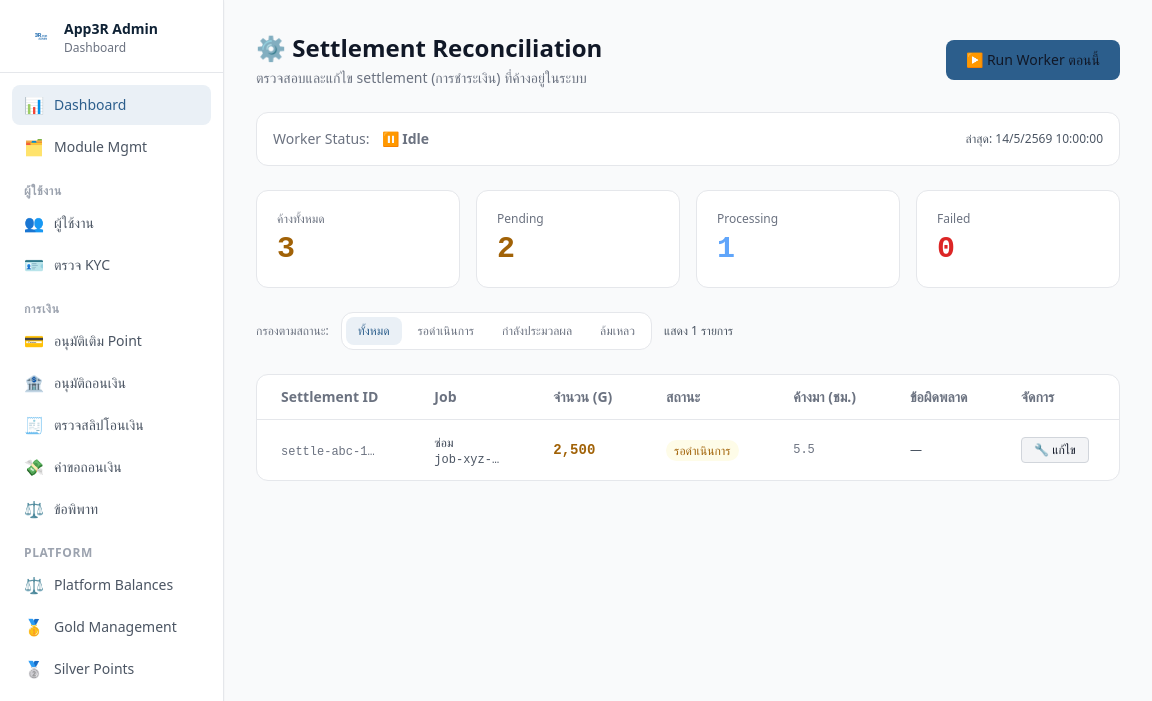
it: SettlementReconciliationPage — actions › เปิด Resolve Modal เมื่อกดปุ่ม "แก้ไข"
This screenshot has width=1152, height=701.
Click the button "🔧 แก้ไข" at coordinates (1055, 450), box [1021,437,1089,463]
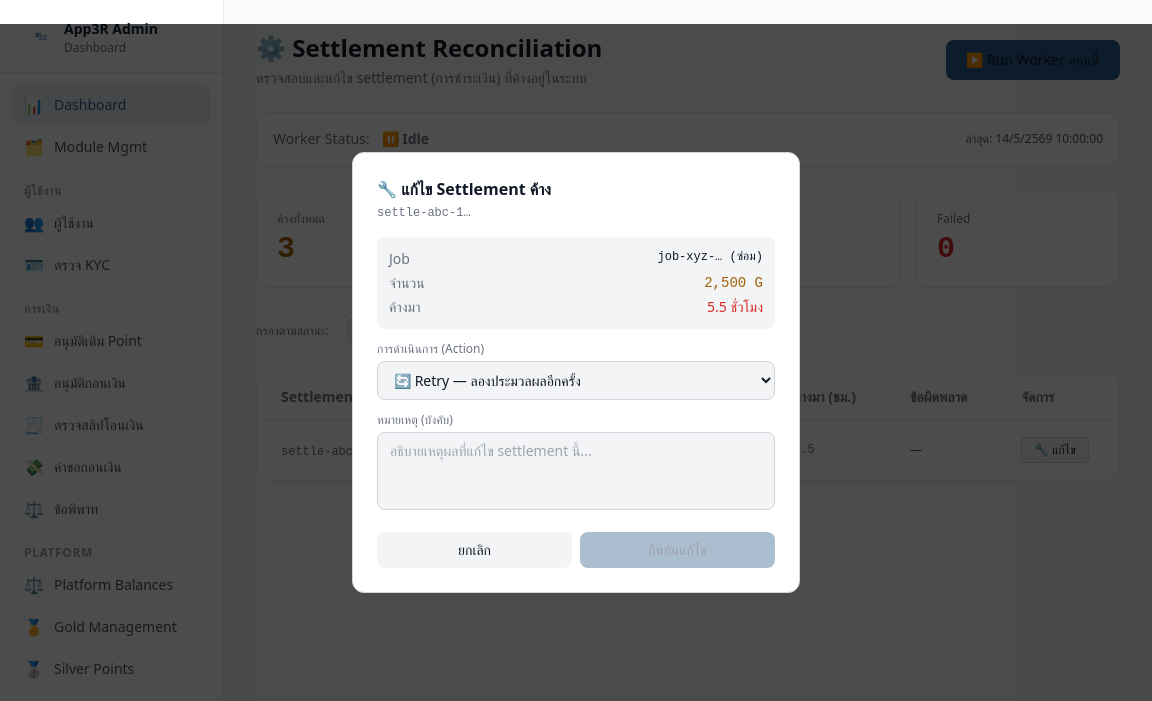
Result: the heading "🔧 แก้ไข Settlement ค้าง" is shown at [377,178,551,200]
